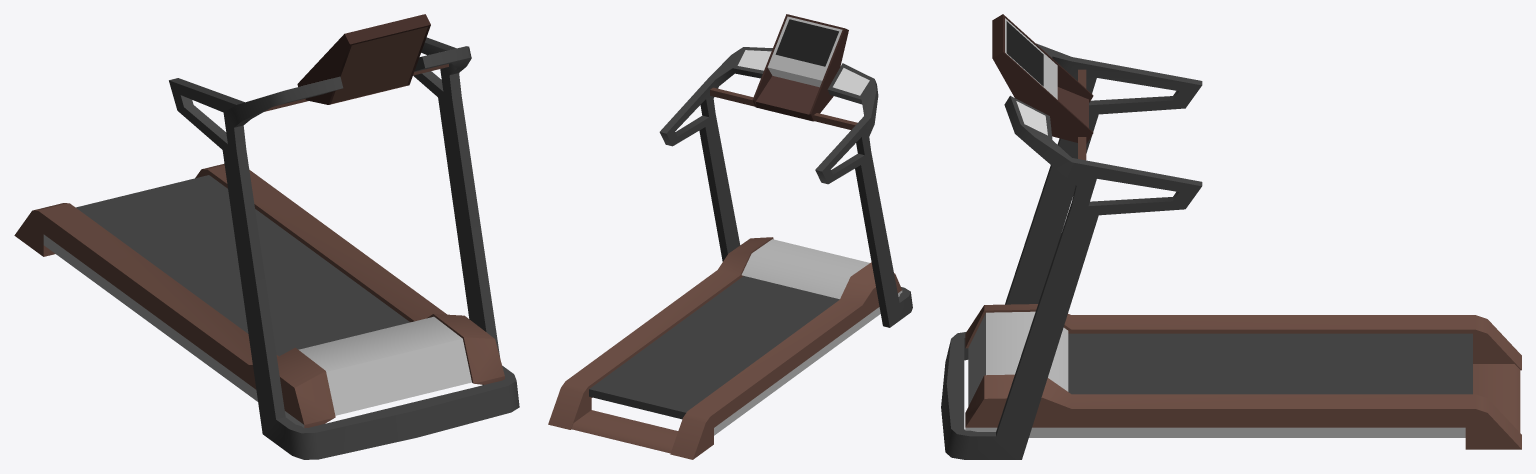
Rendered from training_item_001.fbx.
3 views of the same model, side by side, from view 1: azimuth 30°, elevation 25°; view 2: azimuth 150°, elevation 25°; view 3: azimuth 270°, elevation 25° (orthographic). The views are drawn at different scales.
Parts seen in each view (by area): view 1: training_item_001; view 2: training_item_001; view 3: training_item_001.
Boxes of the visible parts, x1,y1,x2,y2 form: training_item_001: [14, 14, 519, 459]; training_item_001: [548, 14, 912, 459]; training_item_001: [941, 14, 1521, 459].
Size of the model in its own units: 79.4 by 185 by 132.
